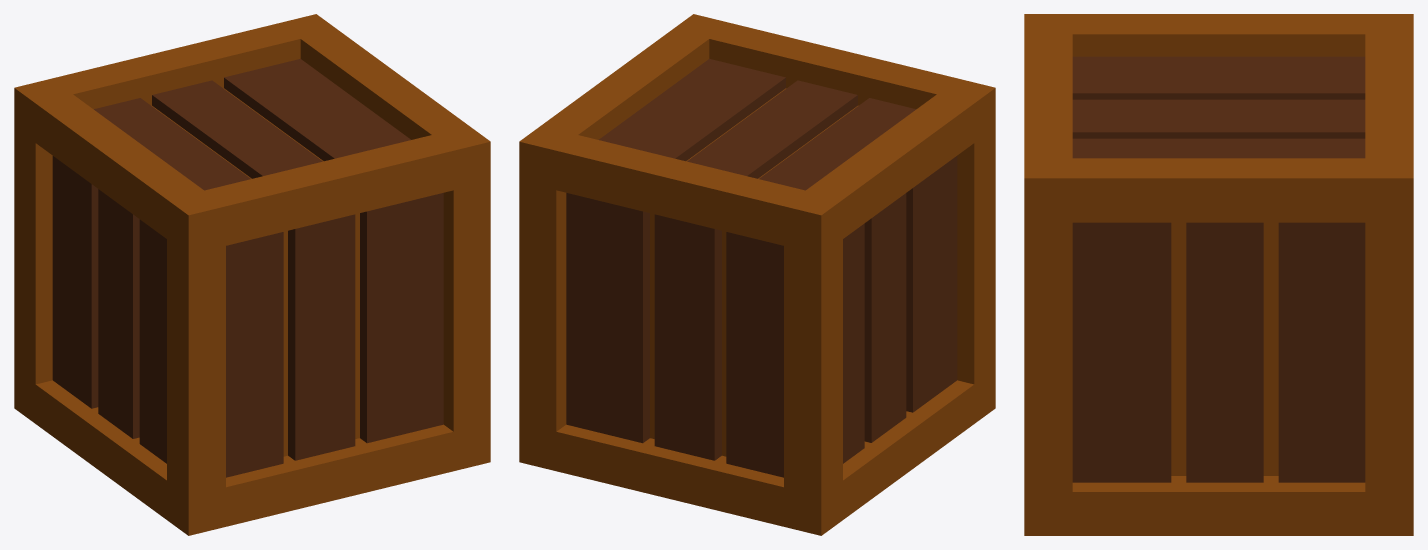
Rendered from bmo6.fbx.
The picture shows the model from 3 angles, left to right: view 1: azimuth 30°, elevation 25°; view 2: azimuth 150°, elevation 25°; view 3: azimuth 270°, elevation 25°; orthographic projection. The views are drawn at different scales.
Parts seen in each view (by area): view 1: Cube.001, Cube.004, Cube.002, Cube.005; view 2: Cube.001, Cube.004, Cube.002, Cube.005; view 3: Cube.001, Cube.002, Cube.005.
Boxes of the visible parts, x1,y1,x2,y2 form: Cube.001: (14,14,490,535); Cube.004: (226,193,443,477); Cube.002: (52,156,166,463); Cube.005: (94,59,410,190); Cube.001: (519,14,995,535); Cube.004: (566,193,783,477); Cube.002: (843,156,957,463); Cube.005: (599,59,915,190); Cube.001: (1024,14,1413,535); Cube.002: (1072,222,1365,482); Cube.005: (1072,56,1365,158).
Size of the model in its own units: 230 by 230 by 233.
